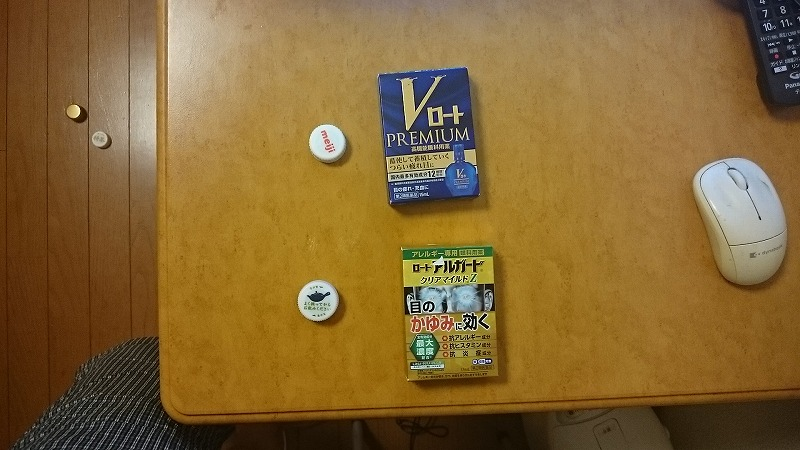A: (285, 275, 353, 327)
B: (305, 123, 353, 161)
C: (394, 242, 500, 384)
D: (373, 65, 490, 204)
